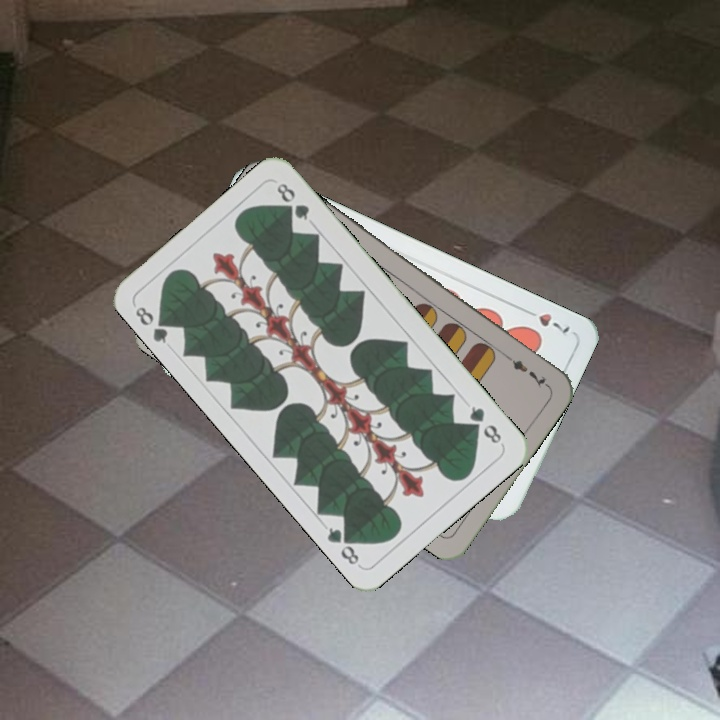E7: (499, 350, 550, 391)
G8: (131, 302, 175, 347), (465, 402, 506, 448)
H7: (518, 304, 572, 338)
